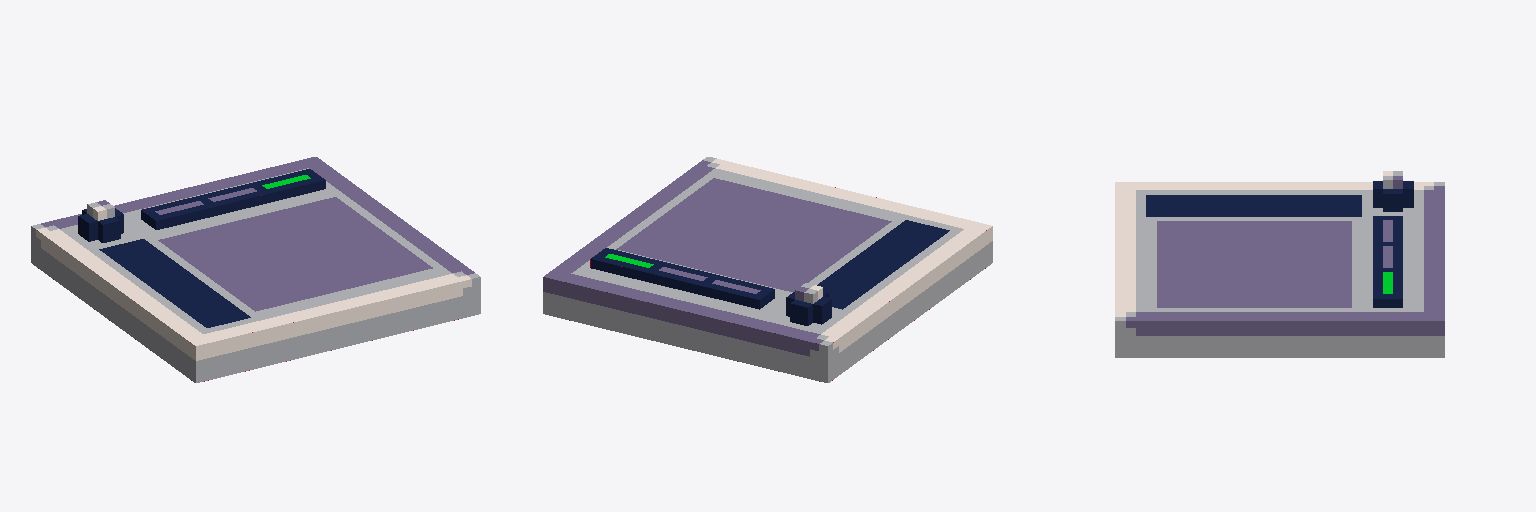
3 views of the same model, side by side, from view 1: azimuth 30°, elevation 25°; view 2: azimuth 150°, elevation 25°; view 3: azimuth 270°, elevation 25° (orthographic).
Visible parts, largest first — view 1: whoof_base; view 2: whoof_base; view 3: whoof_base.
Part boxes in pixels (x1,y1,x2,y2): whoof_base: (31,157,480,382); whoof_base: (543,157,992,382); whoof_base: (1115,171,1444,357).
Bounding box in the file's own units: 8 × 1.75 × 8.
1 materials, 1 textured.